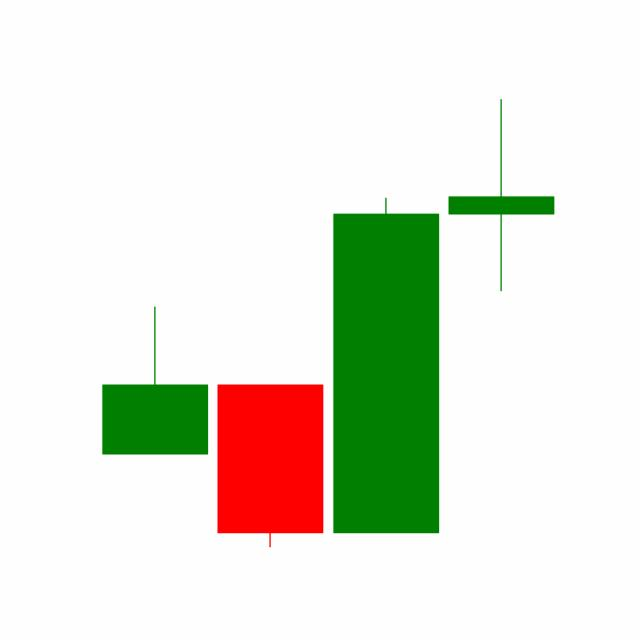Spinning Top: (443, 96, 559, 294)
